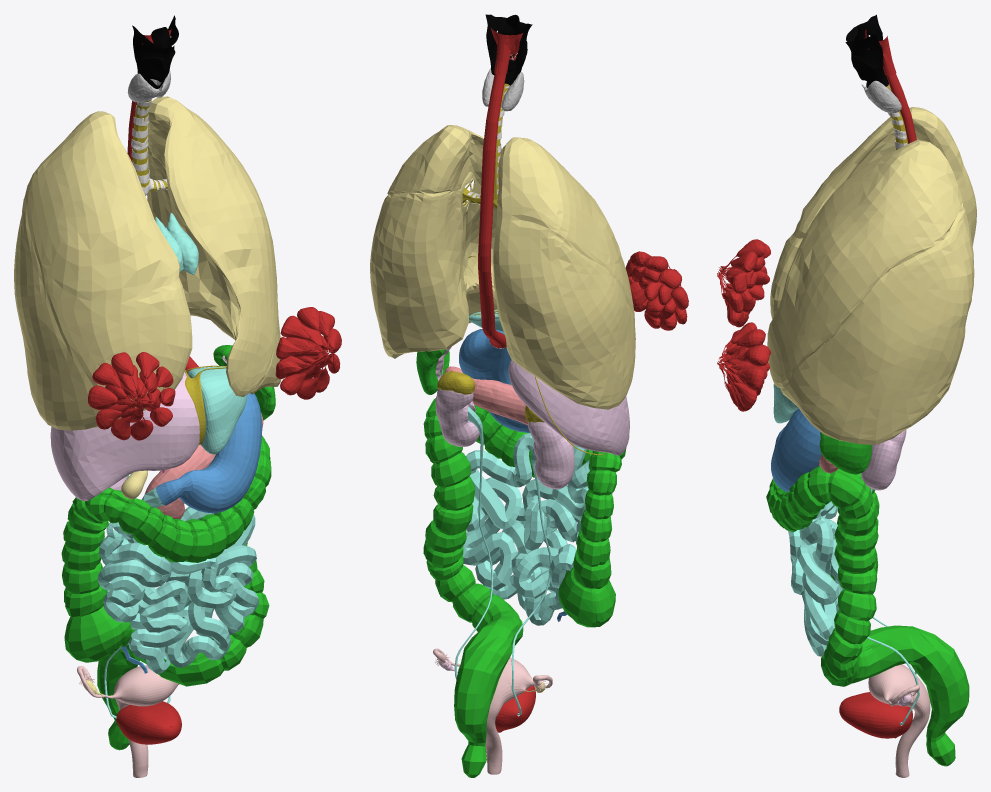
File: female_organs.glb
3 views of the same model, side by side, from view 1: azimuth 30°, elevation 25°; view 2: azimuth 150°, elevation 25°; view 3: azimuth 270°, elevation 25° (orthographic). The views are drawn at different scales.
Visible parts, largest first — view 1: lungs, colon, small_intestine, mammary_gland, liver_right, stomach, uterus, liver_left, bladder, bronchi, pancreas, thymus (+5 smaller); view 2: lungs, colon, small_intestine, liver_right, kidneys, esophagus, mammary_gland, uterus, stomach, pancreas, ureter, bladder (+6 smaller); view 3: lungs, colon, mammary_gland, small_intestine, uterus, stomach, bladder, kidneys, spleen, thyrohyoid_membrane, thyroid, esophagus (+3 smaller).
Boxes of the visible parts, x1=… form: lungs: x1=14, y1=96, x2=281, y2=430; colon: x1=61, y1=435, x2=271, y2=750; small_intestine: x1=97, y1=487, x2=258, y2=673; mammary_gland: x1=88, y1=307, x2=341, y2=440; liver_right: x1=50, y1=372, x2=199, y2=501; stomach: x1=156, y1=393, x2=262, y2=513; uterus: x1=77, y1=640, x2=187, y2=777; liver_left: x1=187, y1=366, x2=247, y2=454; bladder: x1=116, y1=701, x2=181, y2=744; bronchi: x1=131, y1=79, x2=238, y2=302; pancreas: x1=145, y1=413, x2=263, y2=519; thymus: x1=155, y1=213, x2=198, y2=274; lungs: x1=370, y1=125, x2=635, y2=409; colon: x1=423, y1=398, x2=626, y2=777; small_intestine: x1=462, y1=433, x2=612, y2=625; liver_right: x1=508, y1=359, x2=629, y2=455; kidneys: x1=435, y1=388, x2=574, y2=489; esophagus: x1=478, y1=74, x2=506, y2=348; mammary_gland: x1=625, y1=251, x2=688, y2=330; uterus: x1=433, y1=648, x2=552, y2=774; stomach: x1=459, y1=329, x2=530, y2=432; pancreas: x1=445, y1=366, x2=573, y2=446; ureter: x1=454, y1=406, x2=551, y2=715; bladder: x1=495, y1=685, x2=535, y2=732; lungs: x1=767, y1=107, x2=976, y2=445; colon: x1=766, y1=466, x2=969, y2=766; mammary_gland: x1=717, y1=239, x2=771, y2=411; small_intestine: x1=788, y1=501, x2=843, y2=656; uterus: x1=868, y1=664, x2=930, y2=777; stomach: x1=771, y1=408, x2=821, y2=491; bladder: x1=839, y1=692, x2=912, y2=738; kidneys: x1=861, y1=429, x2=906, y2=490; spleen: x1=819, y1=432, x2=872, y2=474; thyrohyoid_membrane: x1=845, y1=14, x2=881, y2=66; thyroid: x1=861, y1=80, x2=901, y2=112; esophagus: x1=886, y1=74, x2=916, y2=143.
Size of the model in its own units: 24.61 by 71.28 by 22.35.
